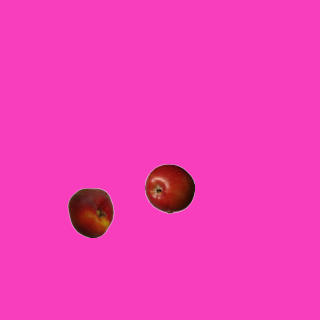Apple Braeburn: (144, 163, 194, 213)
Nectarine Flat: (65, 187, 115, 237)
